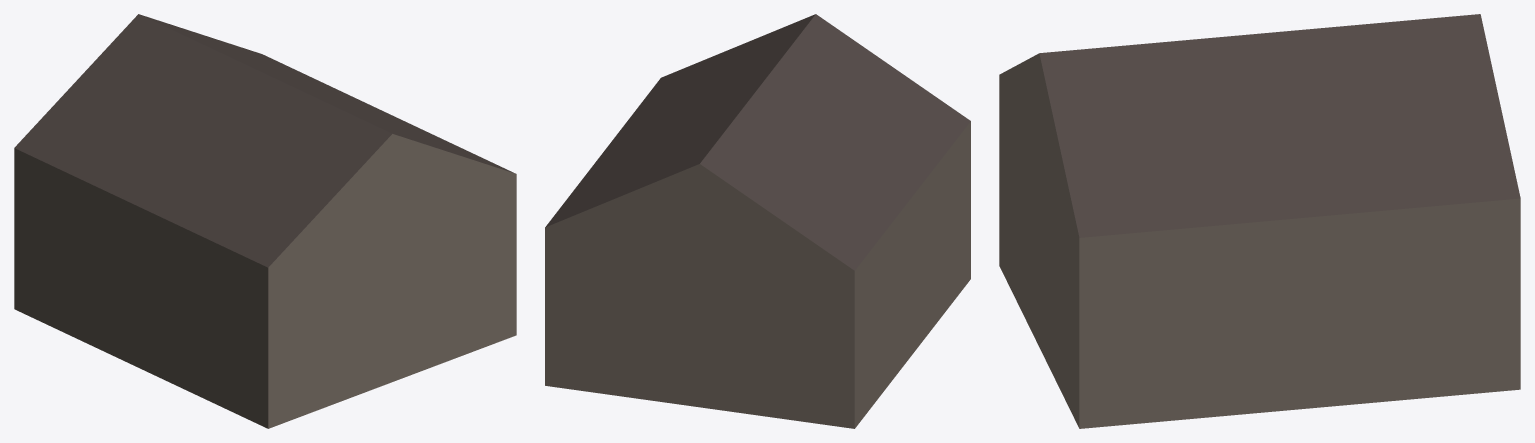
The picture shows the model from 3 angles, left to right: view 1: azimuth 30°, elevation 25°; view 2: azimuth 150°, elevation 25°; view 3: azimuth 270°, elevation 25°; orthographic projection. The views are drawn at different scales.
Parts seen in each view (by area): view 1: HP-w859467734; view 2: HP-w859467734; view 3: HP-w859467734.
Part boxes in pixels (<box>): HP-w859467734: <box>14,14,516,428</box>; HP-w859467734: <box>545,14,970,428</box>; HP-w859467734: <box>999,14,1520,428</box>.
Size of the model in its own units: 13.64 by 9.24 by 14.85.
